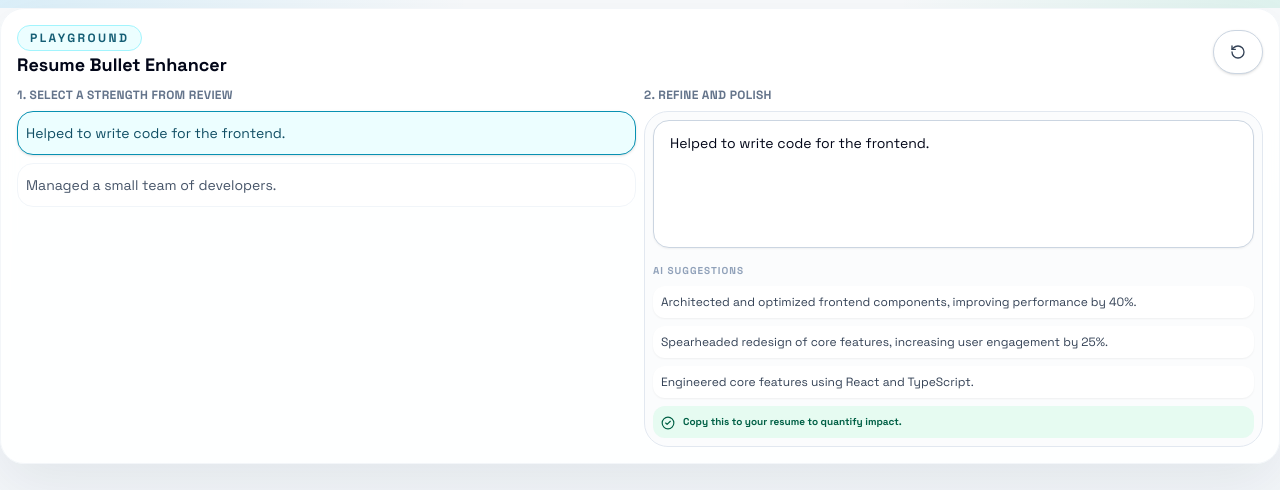
Test case: ResumeBulletPlayground › renders AI suggestions and applies them when clicked
Expected: the text "Architected and optimized frontend components, improving performance by 40%." is shown, top-left (661, 294), bottom-right (1136, 310)
Expected: the text "Spearheaded redesign of core features, increasing user engagement by 25%." is shown, top-left (661, 334), bottom-right (1108, 350)
Step 1. Click the button "Architected and optimized frontend components, improving performance by 40%." → (954,302), box top-left (653, 286), bottom-right (1254, 318)
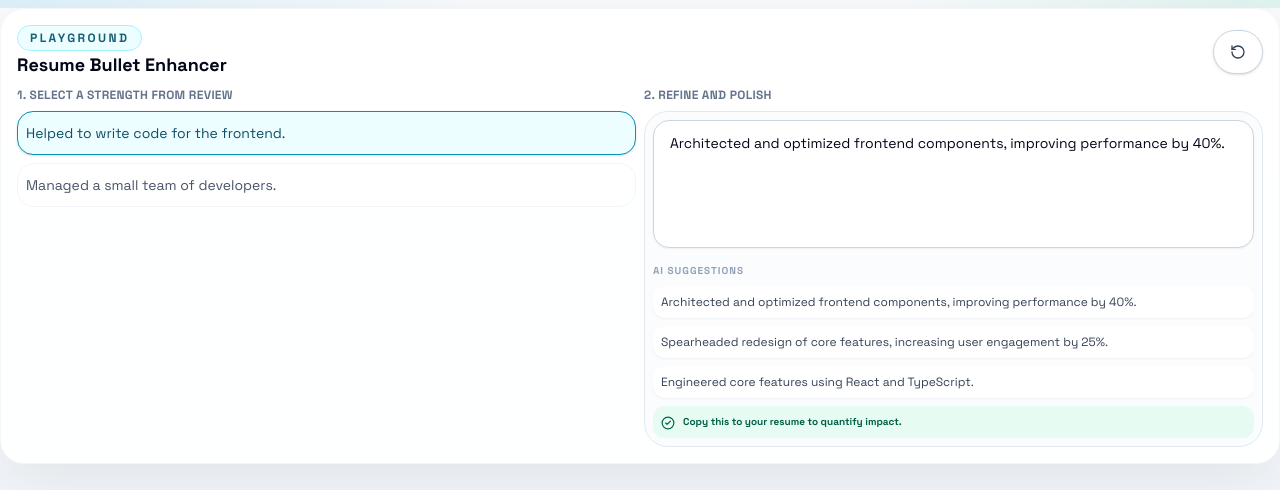
Expected: the text box holds "Architected and optimized frontend components, improving performance by 40%.", top-left (653, 120), bottom-right (1254, 248)
